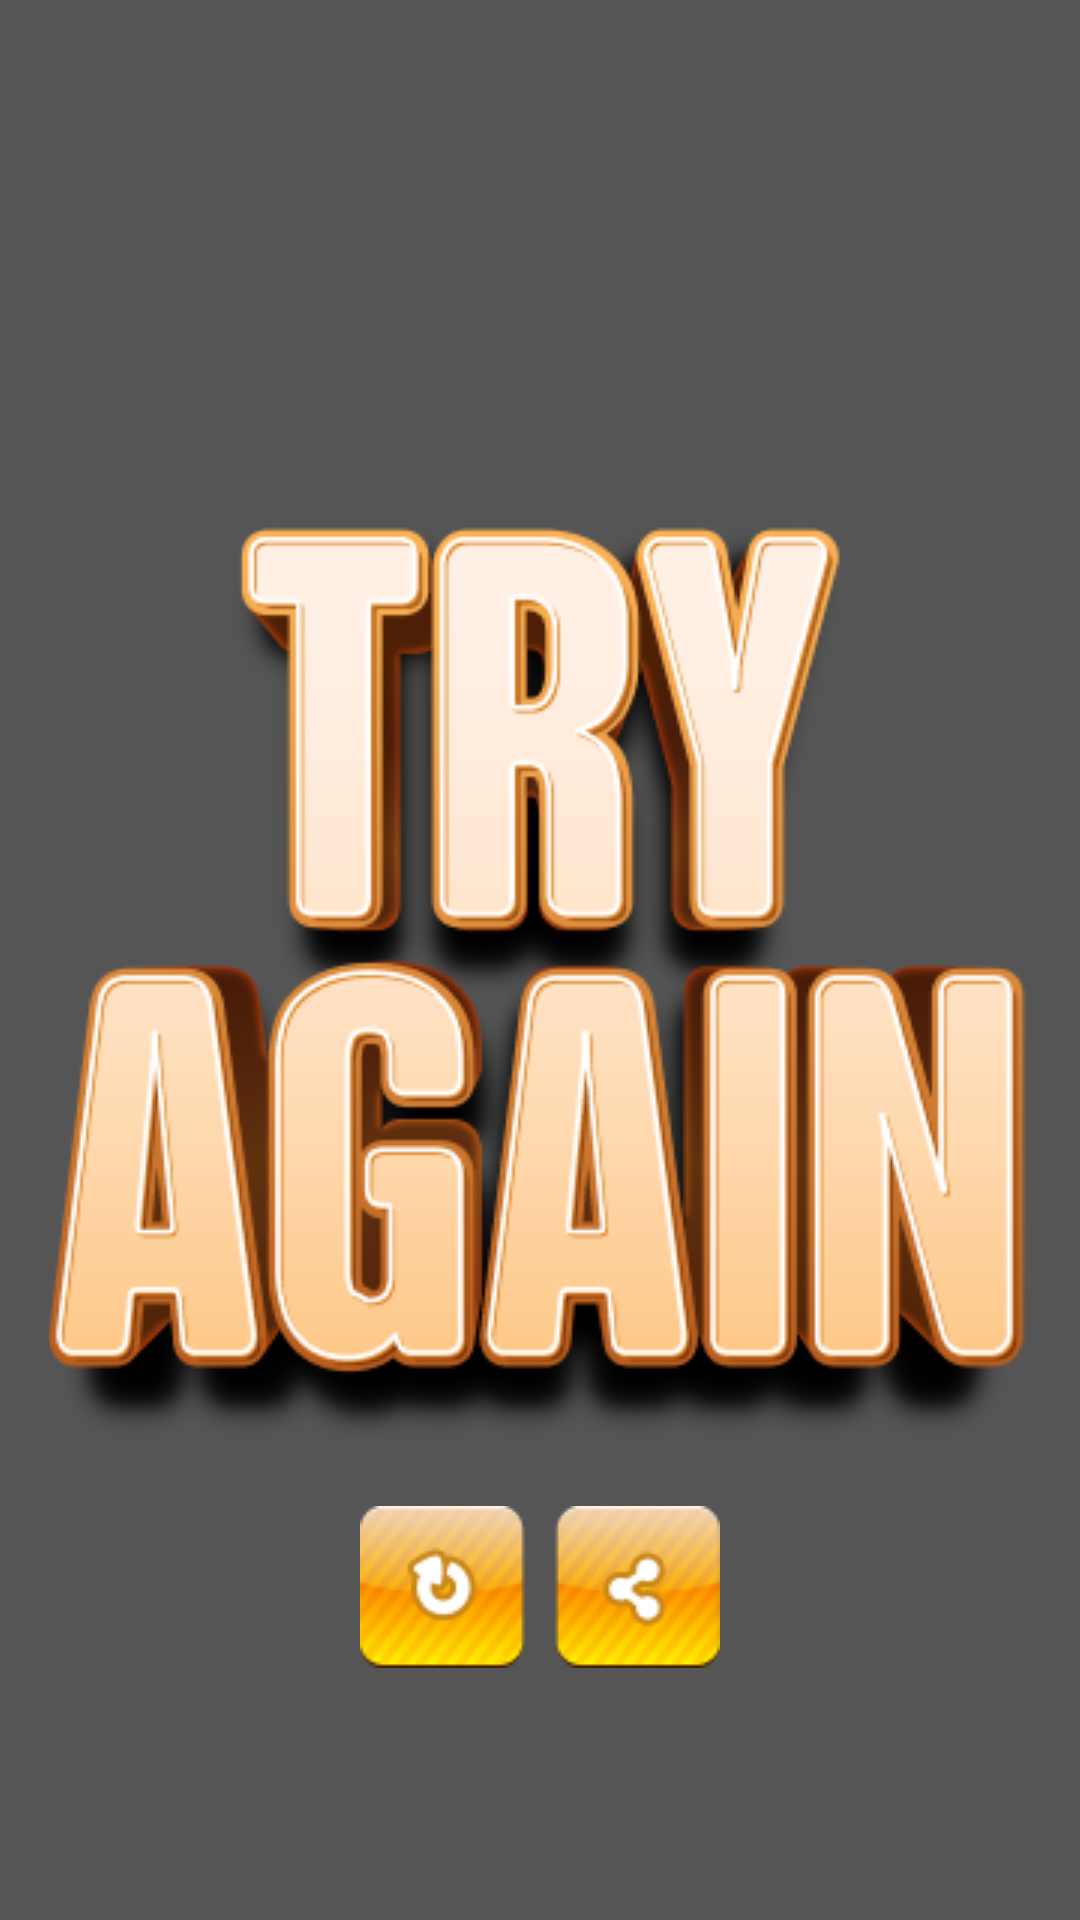

Named icons in this screenshot (1080×1920) and their centers, point (x, y):
restart: point (442, 1587)
share: point (637, 1587)
